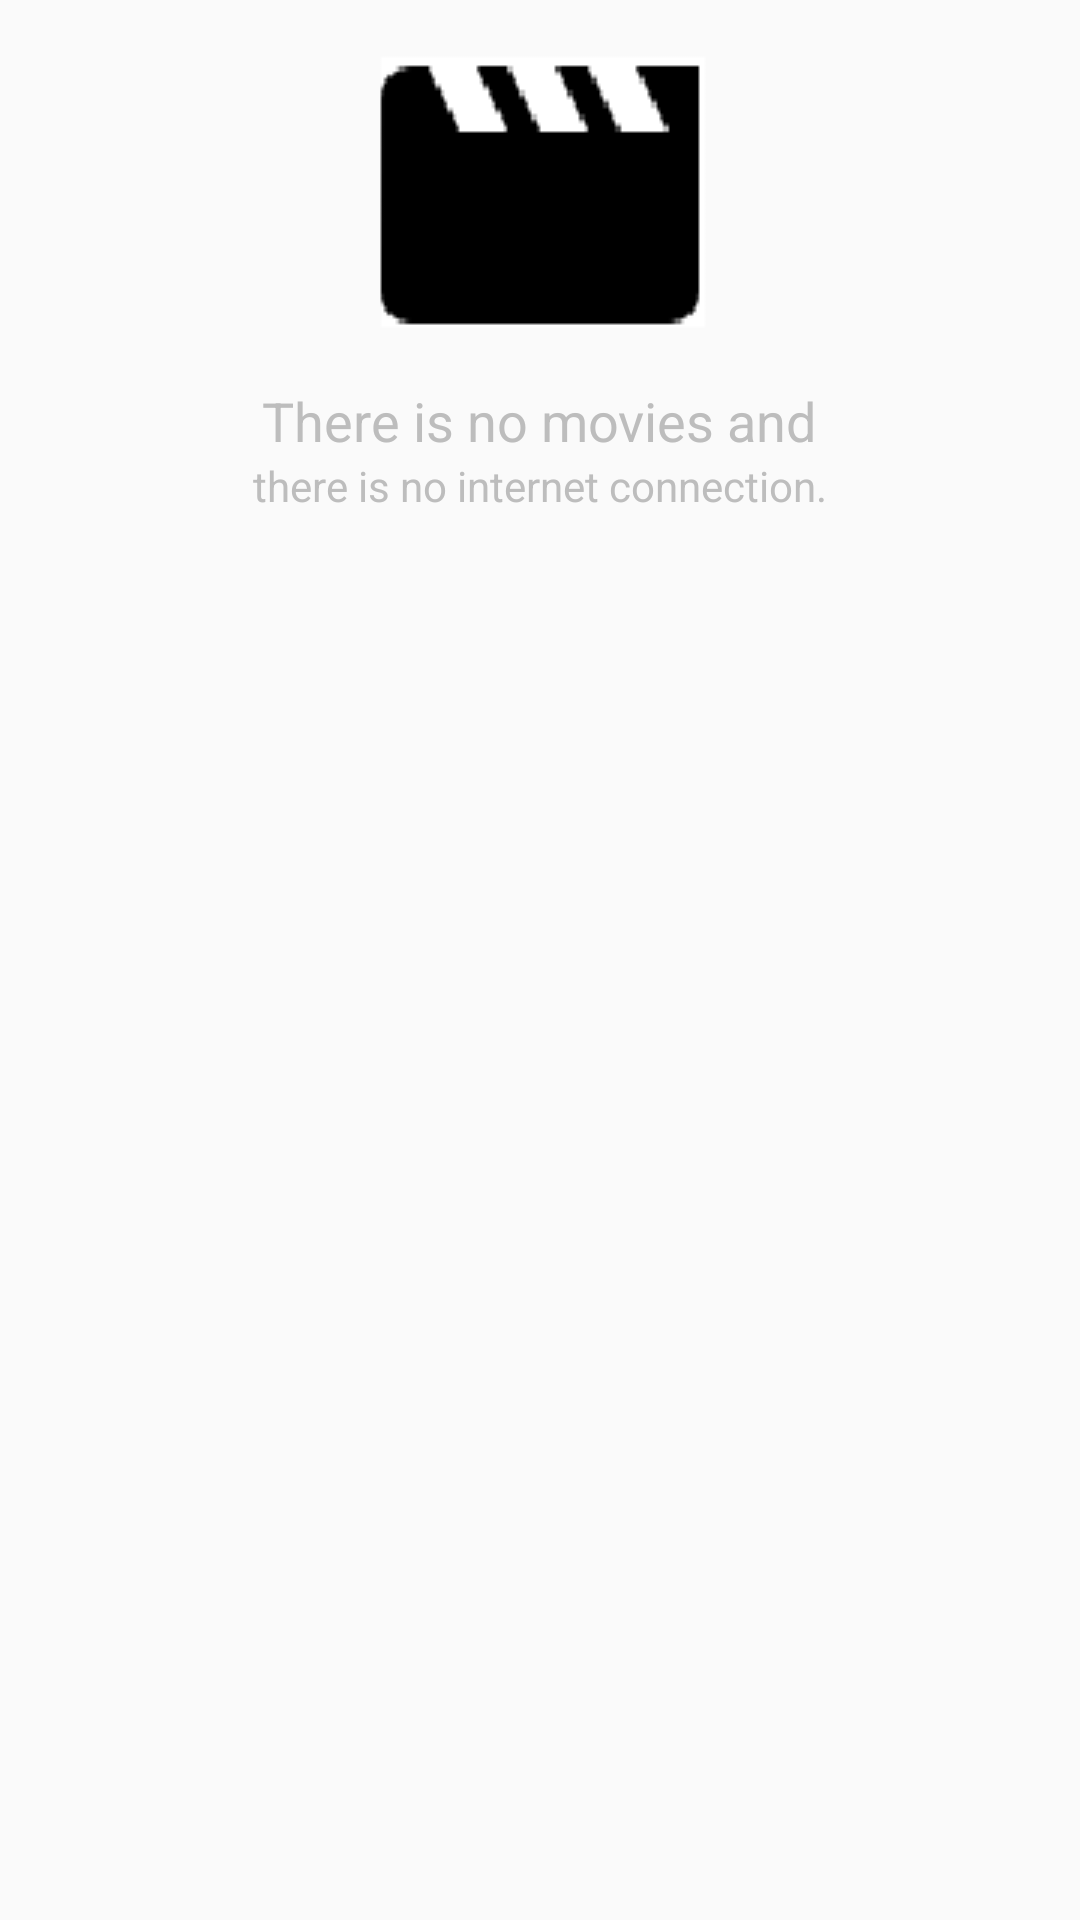

Point at icon controls on the screen. Image size 1080 x 1920, points as [x,y].
movie creation: [540,195]
